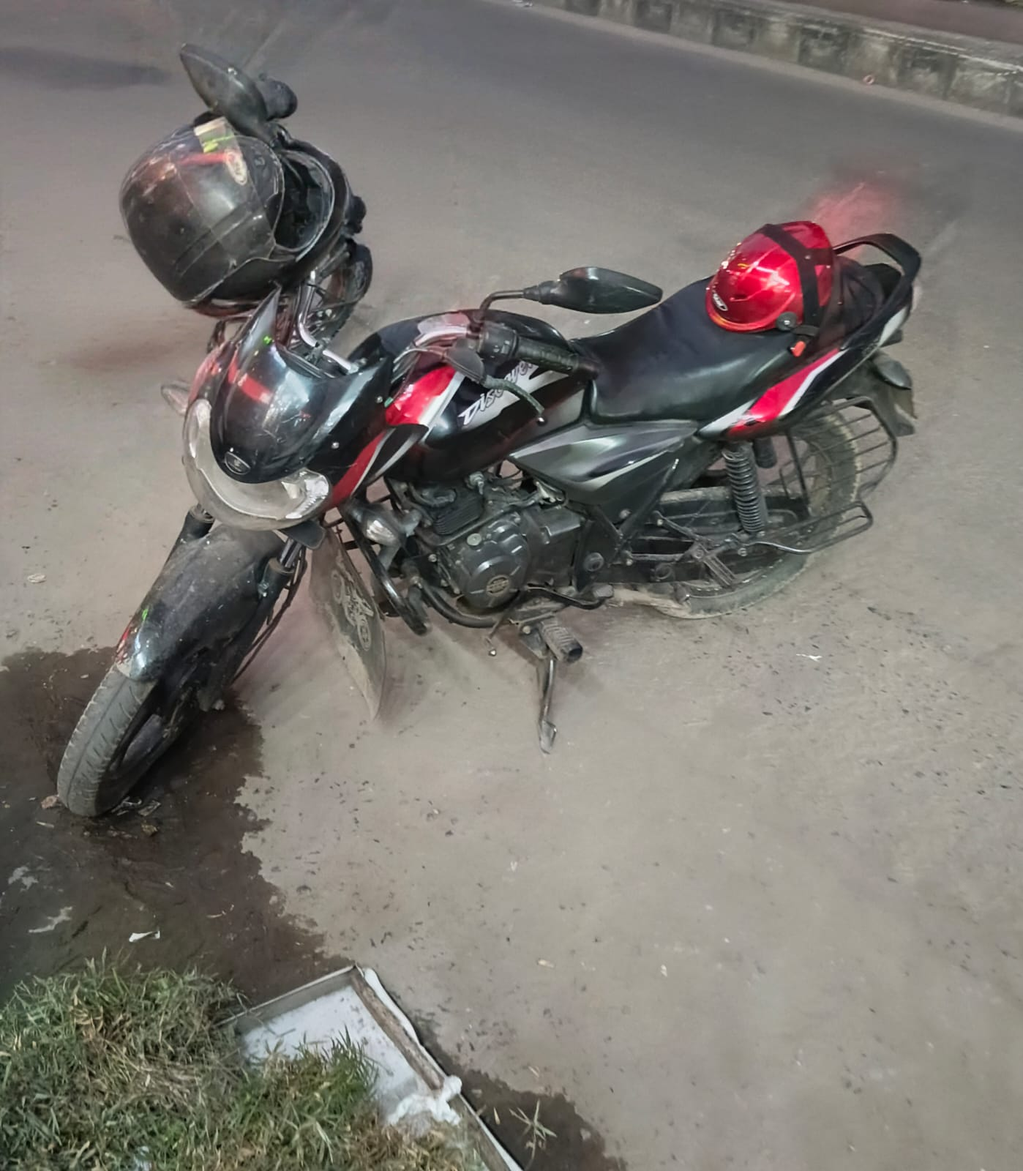Bikes: (34, 44, 971, 957)
